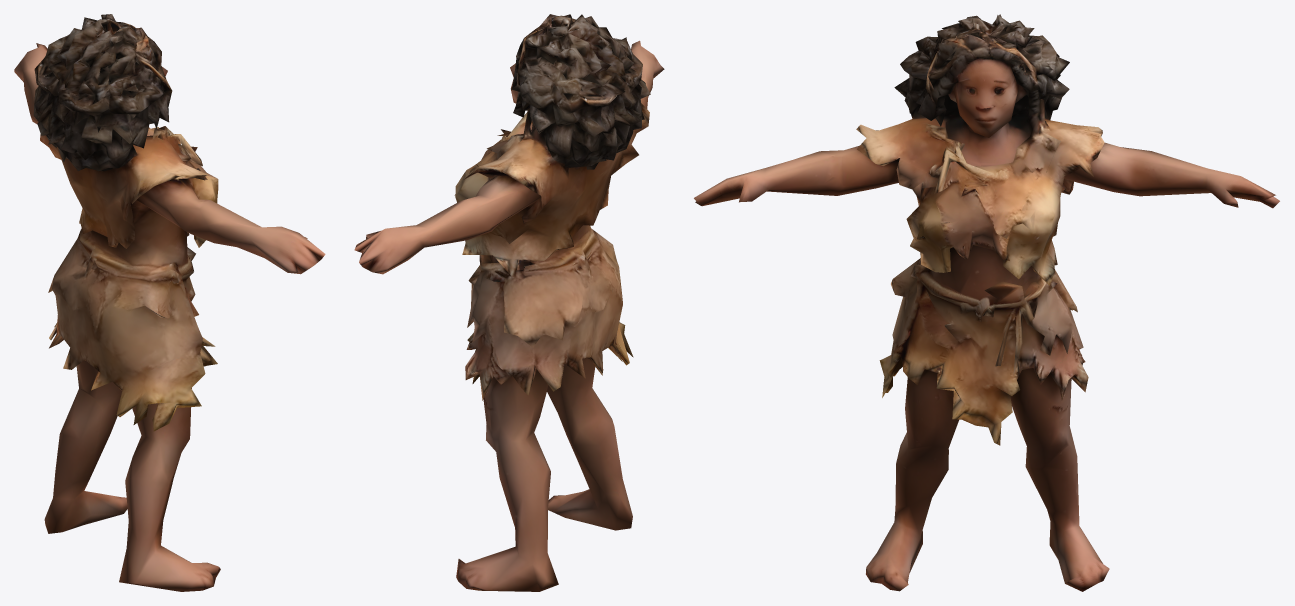
3 views of the same model, side by side, from view 1: azimuth 30°, elevation 25°; view 2: azimuth 150°, elevation 25°; view 3: azimuth 270°, elevation 25° (orthographic).
Visible parts, largest first — view 1: tripo_node_24d4177a-e614-4006-811f-85e045b9664b; view 2: tripo_node_24d4177a-e614-4006-811f-85e045b9664b; view 3: tripo_node_24d4177a-e614-4006-811f-85e045b9664b.
Boxes of the visible parts, left/top/right/bottom form: tripo_node_24d4177a-e614-4006-811f-85e045b9664b: left=14, top=14, right=325, bottom=591; tripo_node_24d4177a-e614-4006-811f-85e045b9664b: left=354, top=14, right=664, bottom=591; tripo_node_24d4177a-e614-4006-811f-85e045b9664b: left=694, top=14, right=1279, bottom=591.
Bounding box in the file's own units: 0.3276 × 1 × 0.9791.
Materials: 1 (1 with a texture image).
